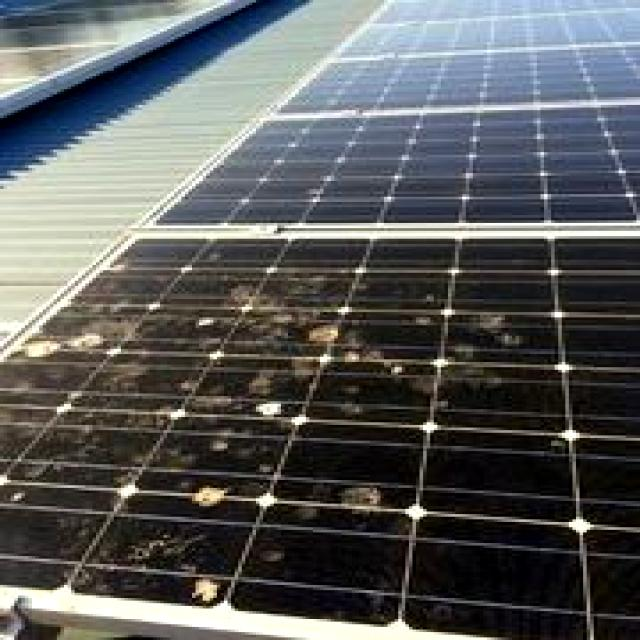bird: (24, 325, 136, 367), (332, 474, 411, 518), (182, 469, 240, 522), (167, 573, 246, 608), (225, 274, 294, 310), (244, 386, 298, 428), (302, 317, 358, 343)
